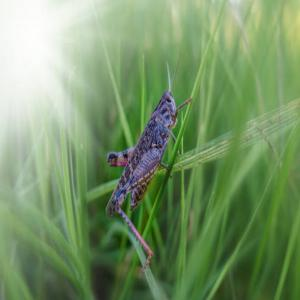locust: (95, 50, 206, 291)
